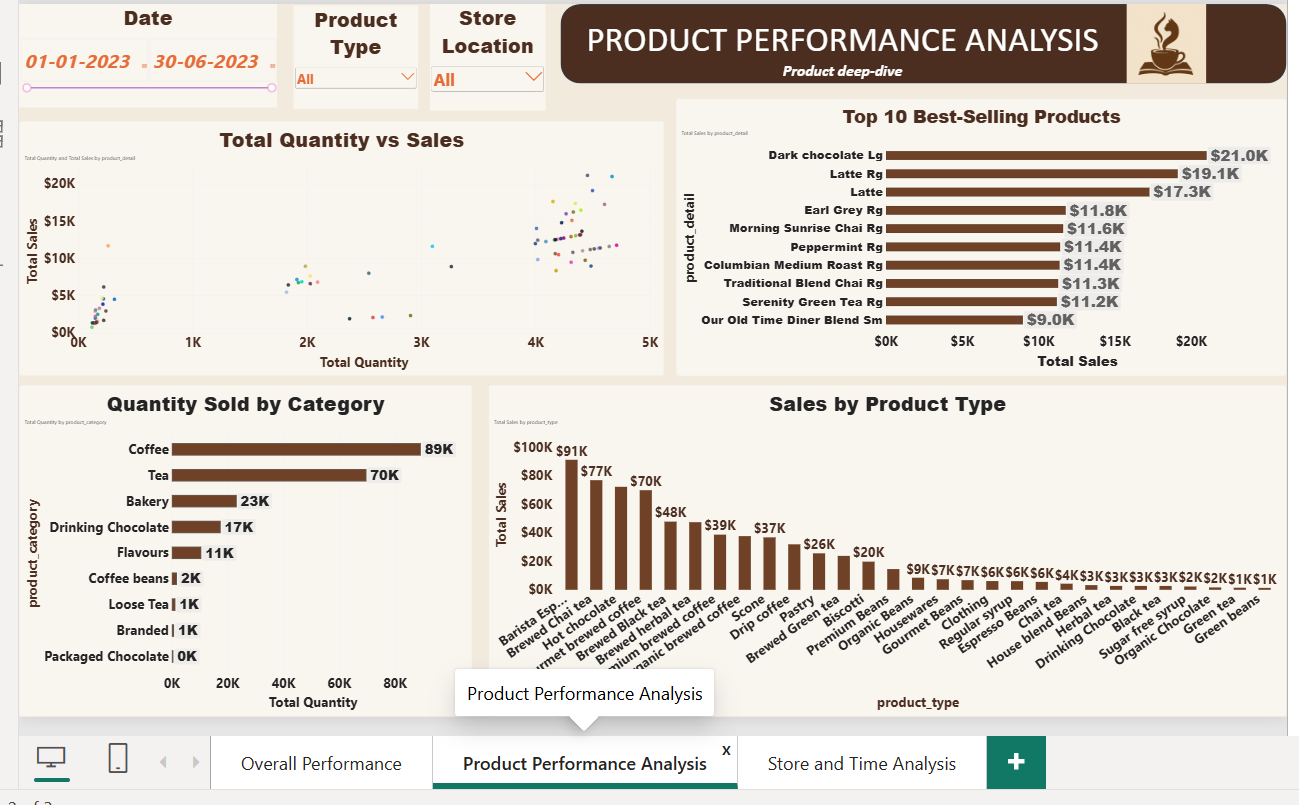

This screenshot's page, from the dashboard's own definition file:
{"tool":"powerbi","page":{"name":"Product Performance Analysis","canvas":[3840,2160],"ordinal":1},"visuals":[{"type":"clusteredBarChart","title":"Top 10 Best-Selling Products","fields":{"Category":["Coffee_Sales.product_detail"],"Y":["Coffee_Sales.Total Sales"]},"box":[1989.7,286.2,1848.8,840.4],"z":0},{"type":"shape","box":[1639.9,0,2198.6,240.8],"z":1000},{"type":"textbox","box":[1308.3,40.9,2371.2,199.9],"z":2000},{"type":"clusteredBarChart","title":"Quantity Sold by Category","fields":{"Category":["Coffee_Sales.product_category"],"Y":["Coffee_Sales.Total Quantity"]},"box":[0,1153.8,1371.9,1003.9],"z":3000},{"type":"slicer","title":"Date","fields":{"Values":["Date Table.Date"]},"box":[0,0,781.3,313.4],"z":4000},{"type":"slicer","title":"Store Location","fields":{"Values":["Coffee_Sales.store_location"]},"box":[1244.7,0,349.8,322.5],"z":5000},{"type":"slicer","title":"Product Type","fields":{"Values":["Coffee_Sales.product_type"]},"box":[831.3,4.5,377,313.4],"z":6000},{"type":"clusteredColumnChart","title":"Sales by Product Type","fields":{"Category":["Coffee_Sales.product_type"],"Y":["Coffee_Sales.Total Sales"]},"box":[1421.8,1153.8,2416.7,1003.9],"z":6001},{"type":"scatterChart","title":"Total Quantity vs Sales","fields":{"Category":["Coffee_Sales.product_detail"],"X":["Coffee_Sales.Total Quantity"],"Y":["Coffee_Sales.Total Sales"]},"box":[0,354.3,1953.3,772.2],"z":6002},{"type":"image","box":[3325.2,0,299.8,240.8],"z":6003}]}

Visuals, with their boxes on the page's 3840x2160 design canvas (x1, y1, x2, y2). These are canvas units, not pixel positions in the 1299x805 screenshot, which may show the page scaled, cropped or inside an application window:
"Top 10 Best-Selling Products" clusteredBarChart: 1990,286,3838,1127
shape: 1640,0,3838,241
textbox: 1308,41,3680,241
"Quantity Sold by Category" clusteredBarChart: 0,1154,1372,2158
"Date" slicer: 0,0,781,313
"Store Location" slicer: 1245,0,1594,322
"Product Type" slicer: 831,4,1208,318
"Sales by Product Type" clusteredColumnChart: 1422,1154,3838,2158
"Total Quantity vs Sales" scatterChart: 0,354,1953,1126
image: 3325,0,3625,241
